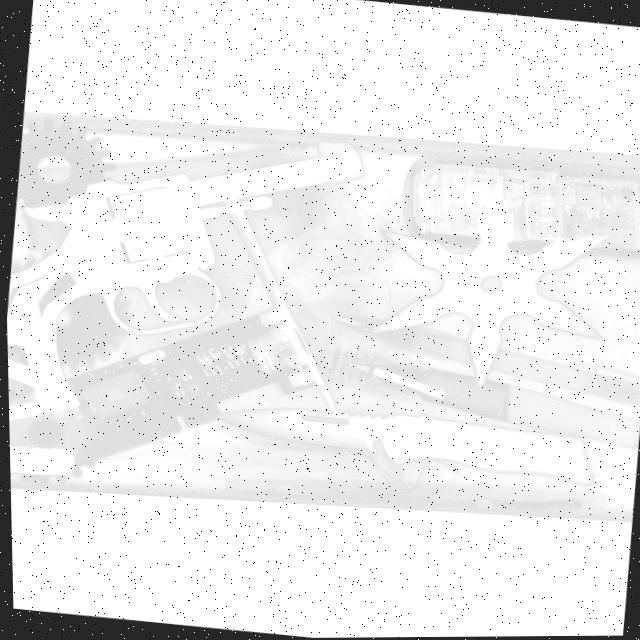knife: (203, 394, 597, 496)
pistol: (2, 106, 370, 458)
